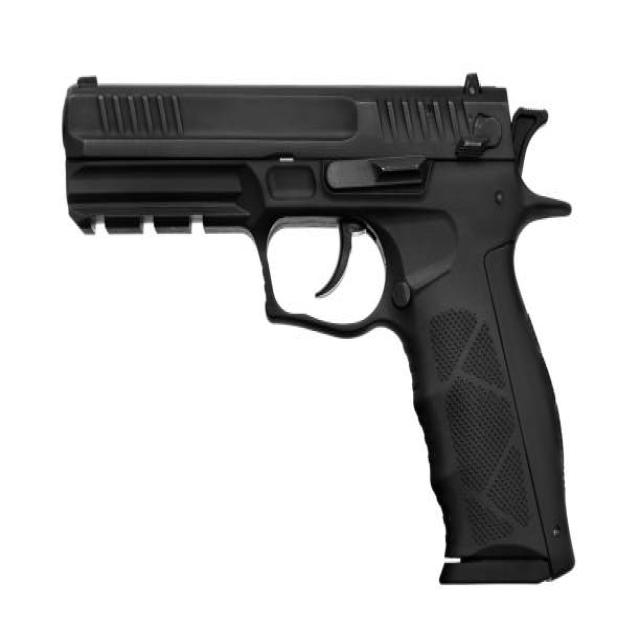pistol: (53, 69, 584, 597)
